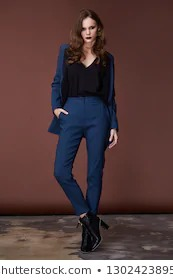F_dress pants: (52, 124, 115, 221)
